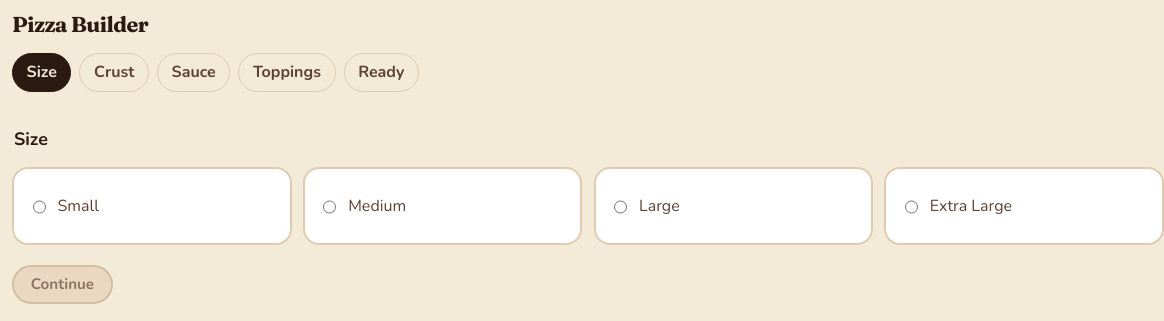
Test: PizzaBuilder › keeps Continue disabled until a size is selected
Expected: the button "Continue" is disabled, [12, 265, 113, 304]
What coordinates should you click on to do the following:
click the radio button labelled "Medium"
I would click on:
 (330, 207)
Its box is [323, 183, 336, 231].
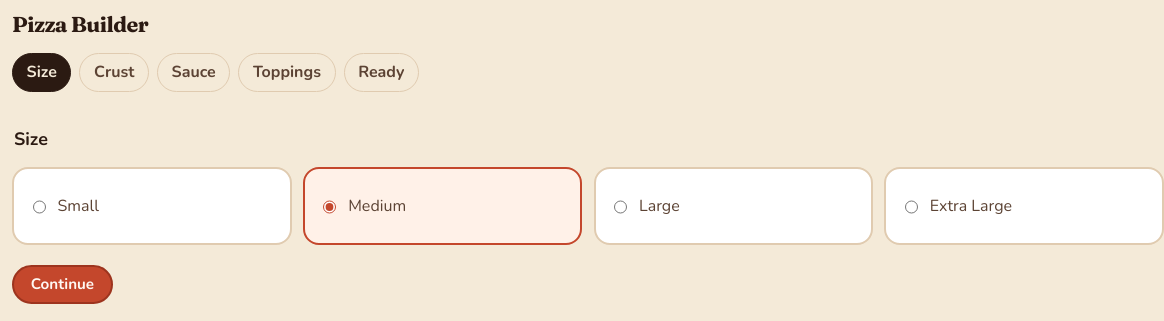
Expected: the button "Continue" is enabled, [12, 265, 113, 304]
